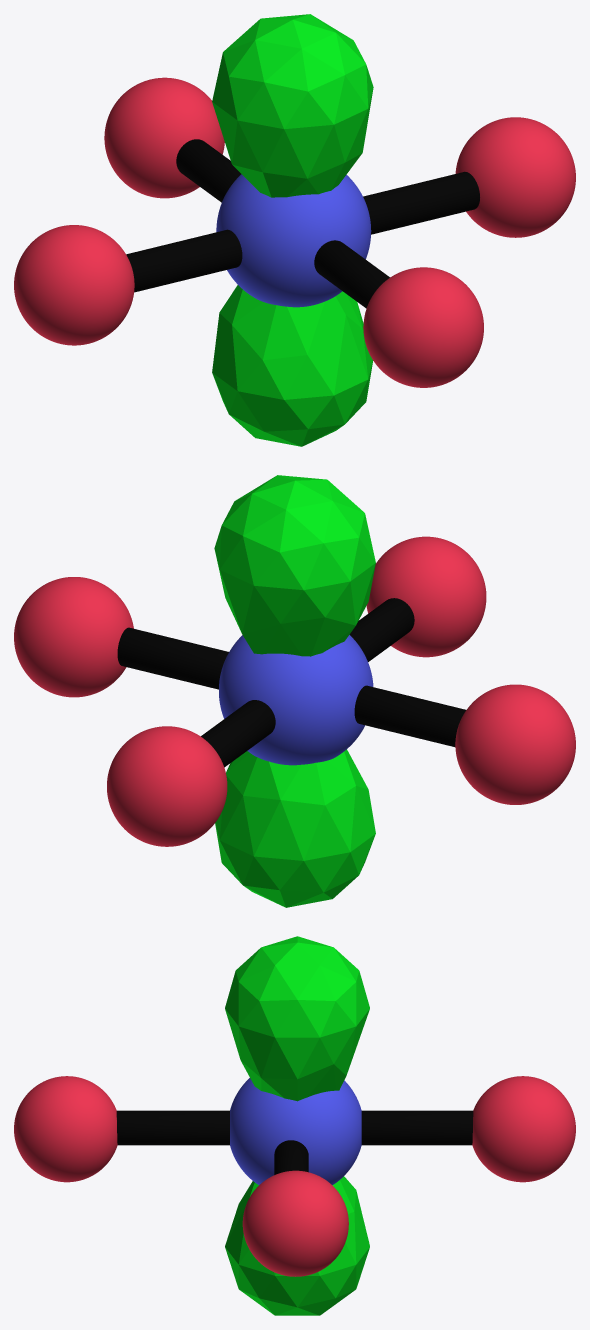
The model's file is chem stru_octahedral_square planar_2lp.glb.
3 views of the same model, one above another, from view 1: azimuth 30°, elevation 25°; view 2: azimuth 150°, elevation 25°; view 3: azimuth 270°, elevation 25° (orthographic). The views are drawn at different scales.
Parts seen in each view (by area): view 1: Icosphere.001, Icosphere.002, Sphere, Sphere.006, Sphere.004, Sphere.003, Sphere.005, Cylinder.003, Cylinder.002, Cylinder.001, Cylinder; view 2: Icosphere.001, Icosphere.002, Sphere, Sphere.004, Sphere.005, Sphere.003, Sphere.006, Cylinder.003, Cylinder.002, Cylinder, Cylinder.001; view 3: Icosphere.001, Sphere, Sphere.003, Sphere.005, Sphere.006, Icosphere.002, Cylinder.001, Cylinder, Cylinder.003.
Part boxes in pixels (bbox=[...]): Icosphere.001: bbox=[212, 14, 373, 197]; Icosphere.002: bbox=[212, 285, 373, 446]; Sphere: bbox=[216, 174, 371, 307]; Sphere.006: bbox=[363, 267, 483, 387]; Sphere.004: bbox=[14, 225, 134, 345]; Sphere.003: bbox=[455, 117, 575, 237]; Sphere.005: bbox=[104, 77, 224, 198]; Cylinder.003: bbox=[363, 171, 479, 234]; Cylinder.002: bbox=[126, 229, 242, 292]; Cylinder.001: bbox=[314, 240, 389, 308]; Cylinder: bbox=[176, 139, 241, 202]; Icosphere.001: bbox=[214, 475, 375, 656]; Icosphere.002: bbox=[215, 749, 375, 907]; Sphere: bbox=[219, 635, 373, 765]; Sphere.004: bbox=[455, 684, 575, 804]; Sphere.005: bbox=[107, 726, 227, 846]; Sphere.003: bbox=[14, 577, 133, 697]; Sphere.006: bbox=[366, 536, 486, 657]; Cylinder.003: bbox=[117, 627, 228, 689]; Cylinder.002: bbox=[354, 685, 465, 746]; Cylinder: bbox=[201, 700, 275, 767]; Cylinder.001: bbox=[349, 598, 414, 661]; Icosphere.001: bbox=[225, 936, 369, 1101]; Sphere: bbox=[230, 1078, 361, 1184]; Sphere.003: bbox=[242, 1170, 348, 1276]; Sphere.005: bbox=[472, 1076, 575, 1182]; Sphere.006: bbox=[14, 1076, 117, 1182]; Icosphere.002: bbox=[225, 1176, 369, 1315]; Cylinder.001: bbox=[116, 1110, 229, 1145]; Cylinder: bbox=[361, 1110, 473, 1145]; Cylinder.003: bbox=[274, 1140, 308, 1174].
Bounding box in the file's own units: 3.59 × 2.64 × 3.63.
